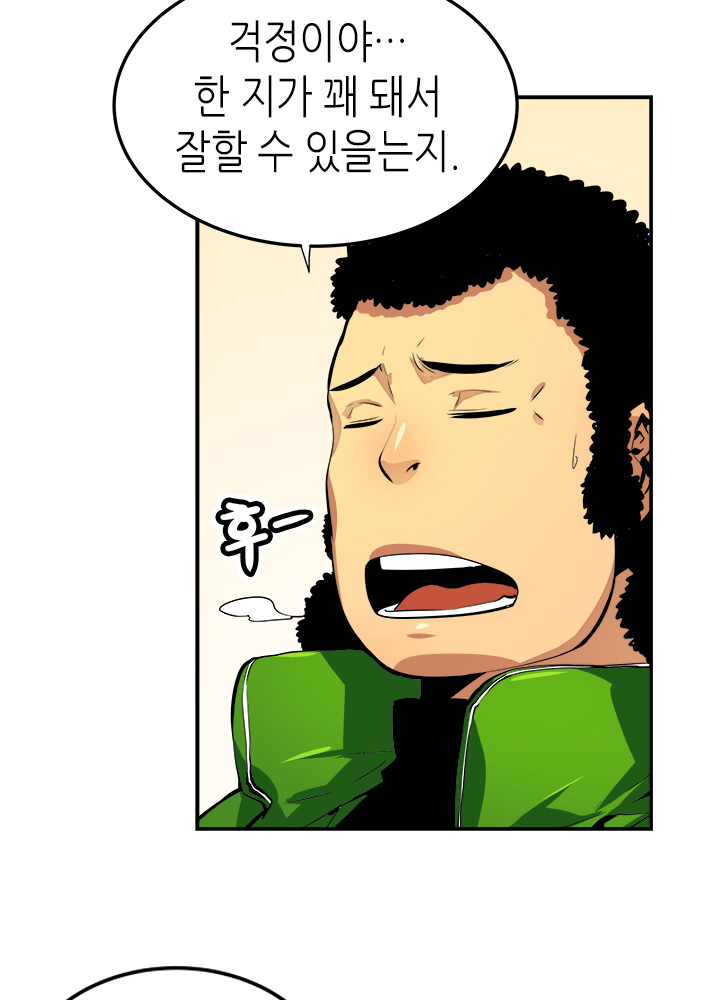dialog box: (88, 1, 542, 289)
text: (160, 1, 490, 205)
